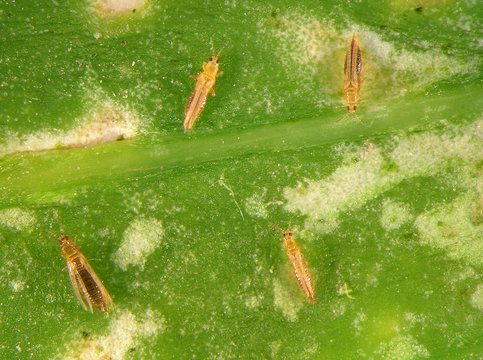Thrips: (42, 220, 117, 326), (182, 36, 228, 148), (335, 16, 379, 122), (273, 219, 323, 310)
